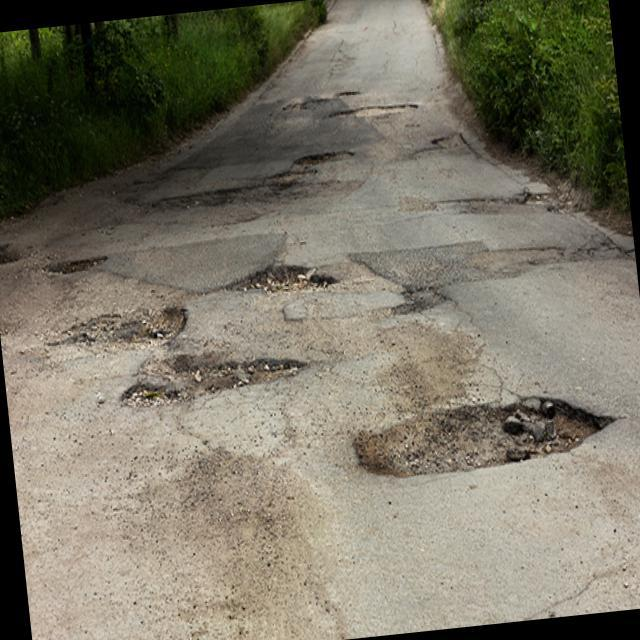Pothole: (359, 376, 632, 504), (126, 334, 301, 423), (70, 298, 195, 357), (222, 250, 338, 308), (162, 182, 255, 224), (44, 242, 112, 288), (292, 142, 356, 176)
